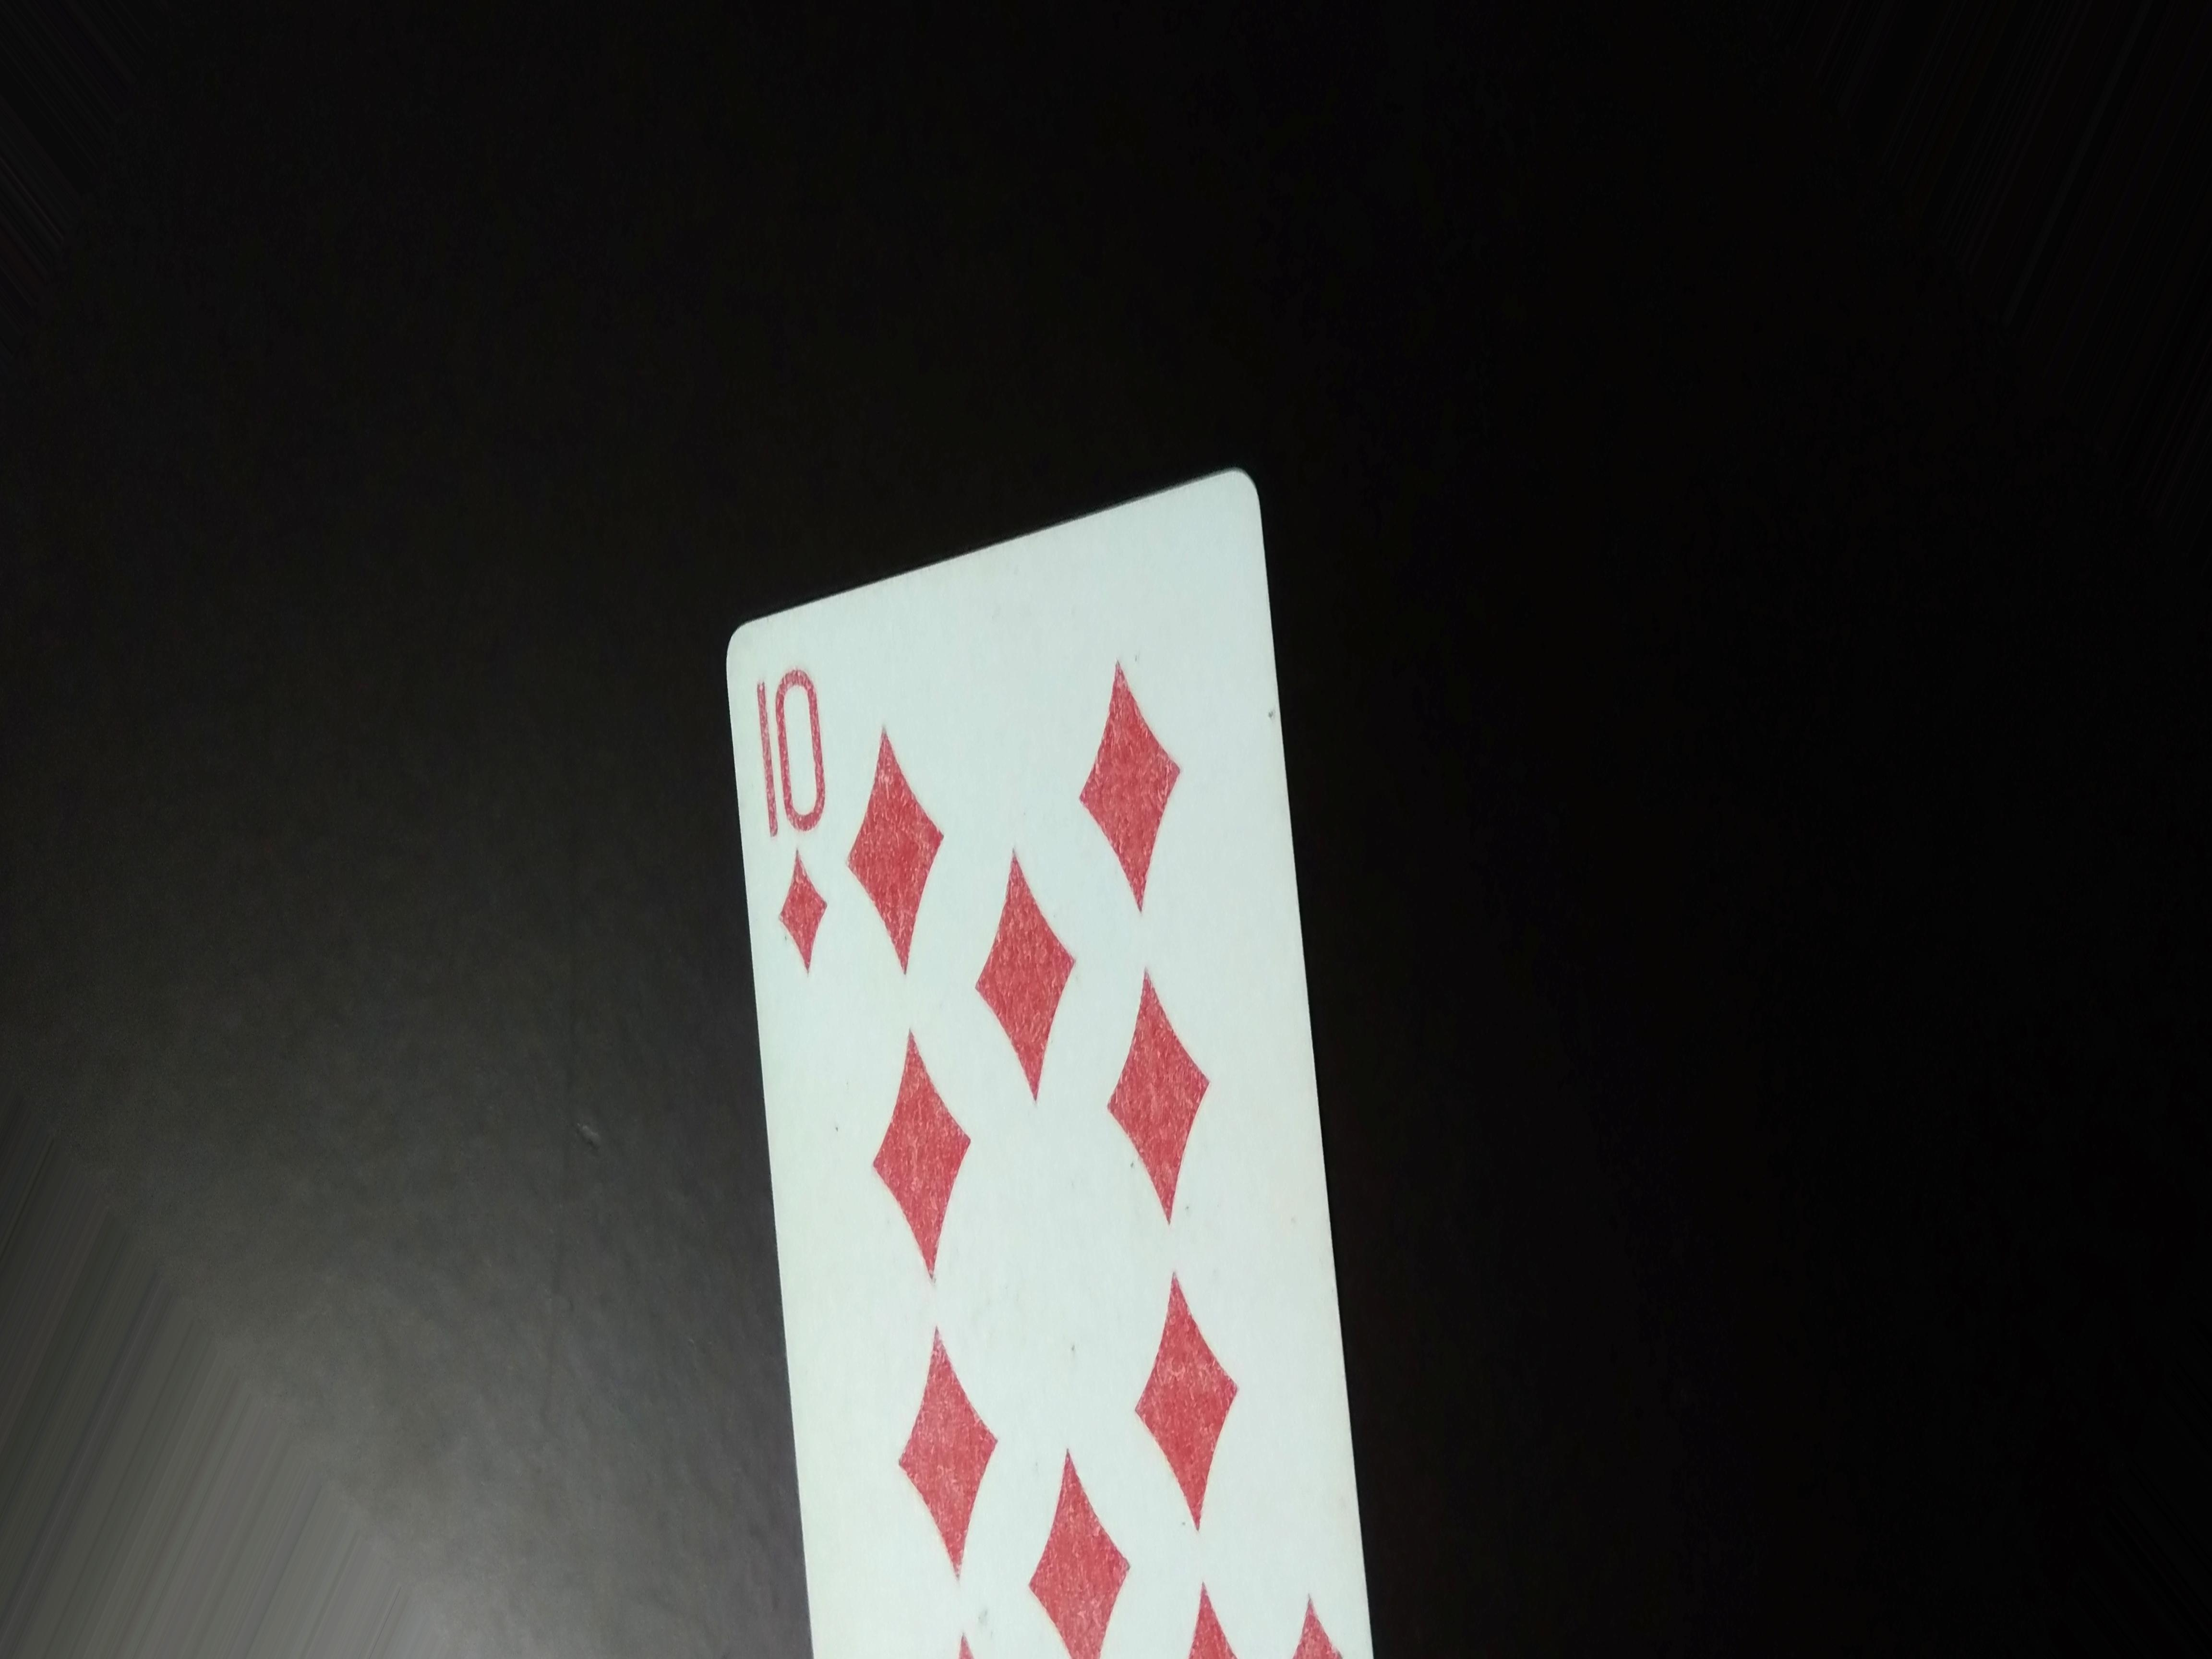10D: (751, 640, 843, 992)
